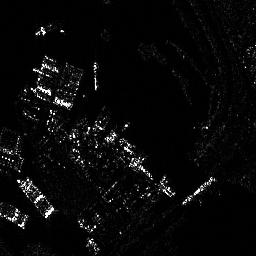ship: (181, 175, 216, 205), (91, 60, 100, 90)
